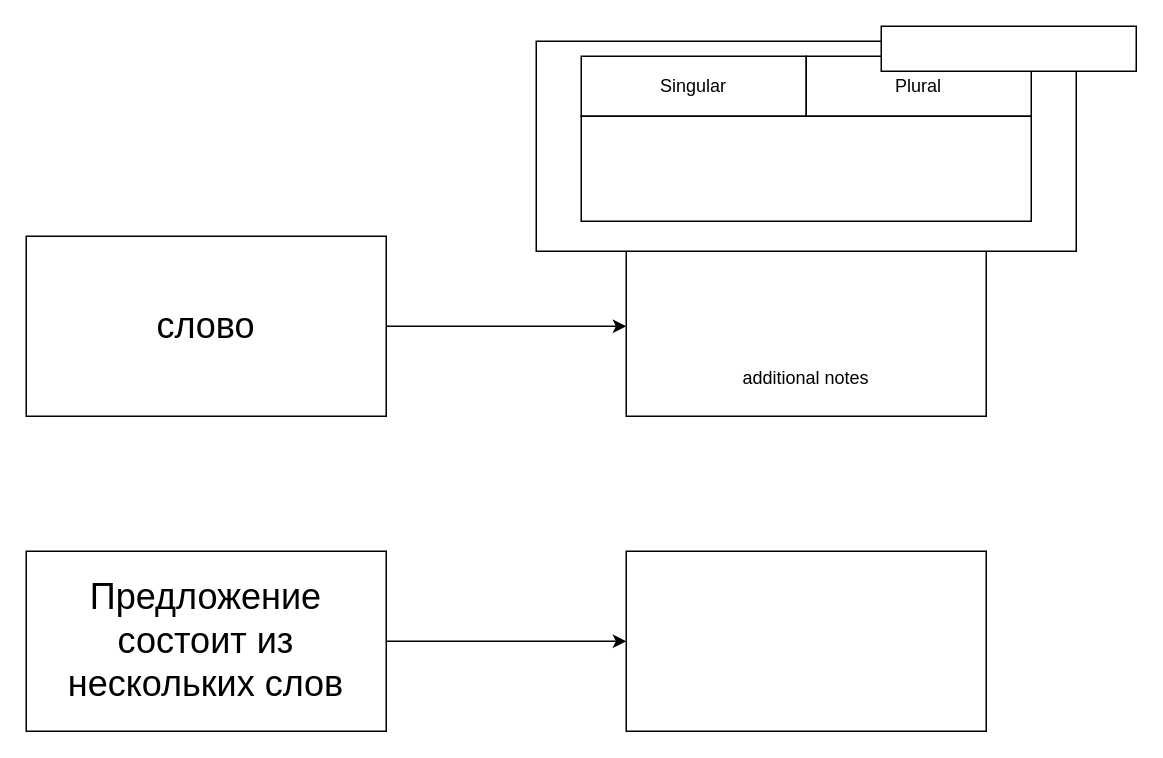
This 1163x758 diagram has some shape labels left out. The shapes that lost their labels are listed below. From the top down, each one's box as (x1, y1, x2, y2) in pixels, then its label:
(880, 25, 1136, 71): Inflection Table
(625, 235, 986, 416): wort
